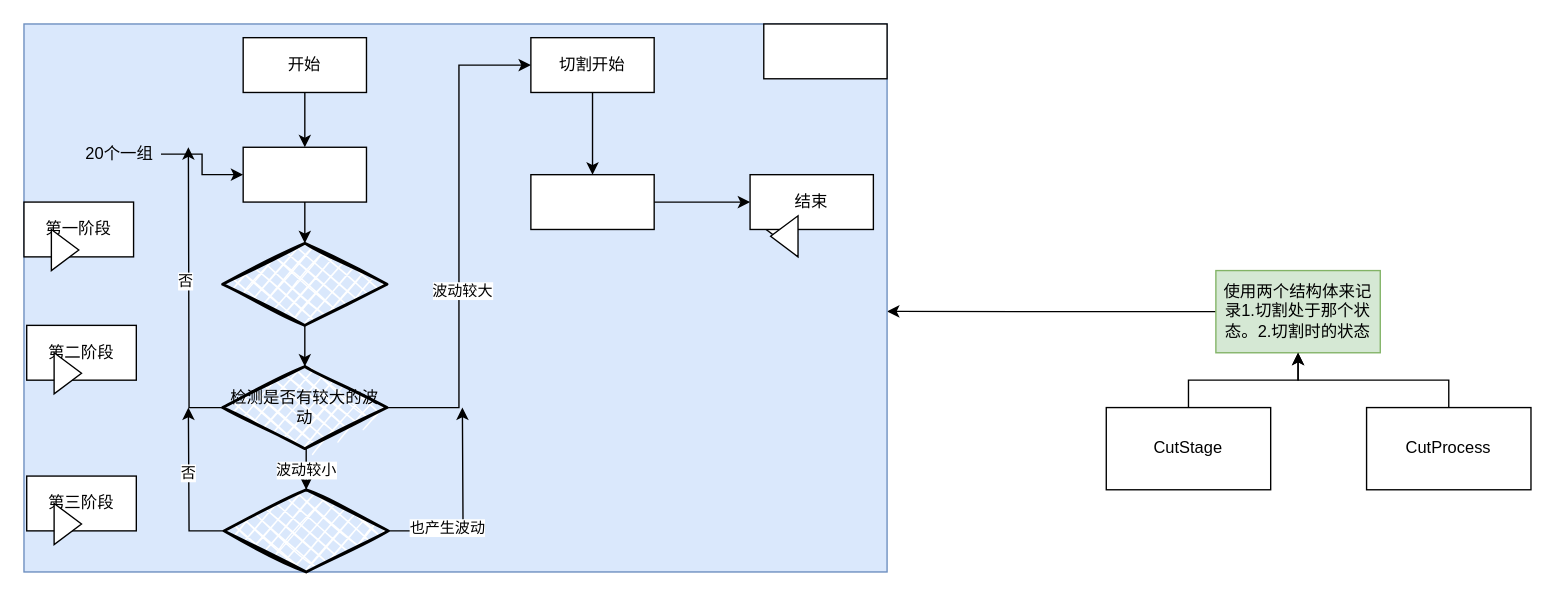
Image size: 1555x597. Some labels were removed from this diagram. The shapes that lost their labels are listed below. From the top down, each one's box as (x1, y1, x2, y2) in pixels, then its label:
(762, 23, 887, 79): 第四阶段
(242, 146, 366, 202): 采集数据
(530, 173, 654, 229): 等待稳定
(221, 241, 388, 326): 检测导数是否平稳
(222, 488, 389, 573): 检测是否有相位的波动
